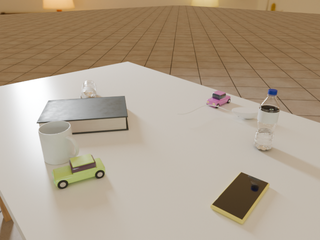book: (37, 96, 128, 134)
bottle: (253, 89, 280, 151), (80, 80, 97, 98)
cup: (38, 121, 79, 165)
mouse: (232, 108, 259, 119)
phone: (210, 172, 269, 224)
toy_car: (52, 154, 105, 189), (207, 91, 230, 108)
